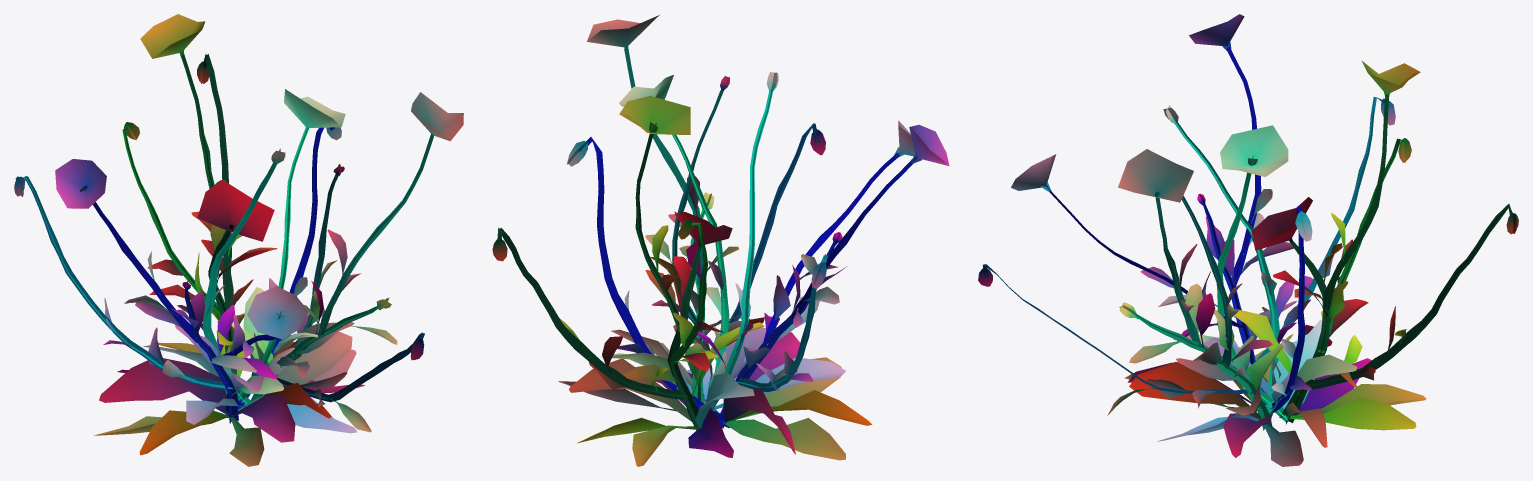
File: Field_Poppy_vmcobd0ja_Low_vmcobd0ja_VarC_LOD0.fbx
3 views of the same model, side by side, from view 1: azimuth 30°, elevation 25°; view 2: azimuth 150°, elevation 25°; view 3: azimuth 270°, elevation 25° (orthographic). The views are drawn at different scales.
Parts seen in each view (by area): view 1: _atou_VarC_LOD2; view 2: _atou_VarC_LOD2; view 3: _atou_VarC_LOD2.
Part boxes in pixels (x1,y1,x2,y2): _atou_VarC_LOD2: (14, 14, 463, 466); _atou_VarC_LOD2: (492, 15, 949, 466); _atou_VarC_LOD2: (978, 14, 1518, 466).
Bounding box in the file's own units: 78.27 × 70.72 × 97.44.
